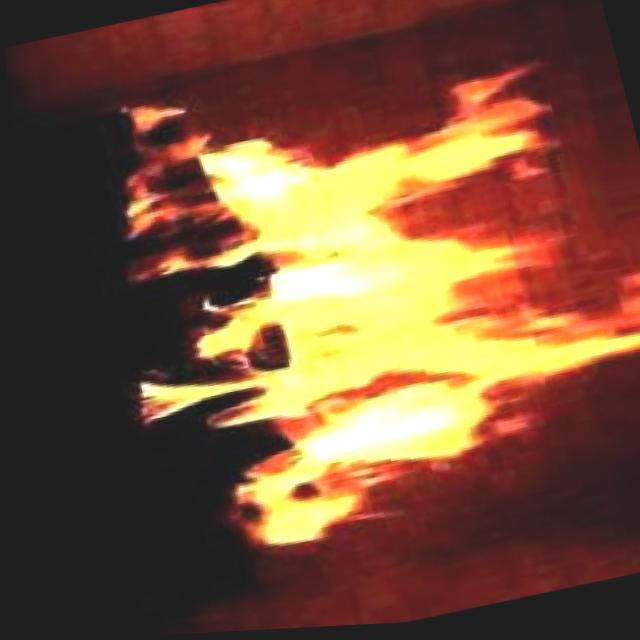Fire: (39, 0, 640, 581)
